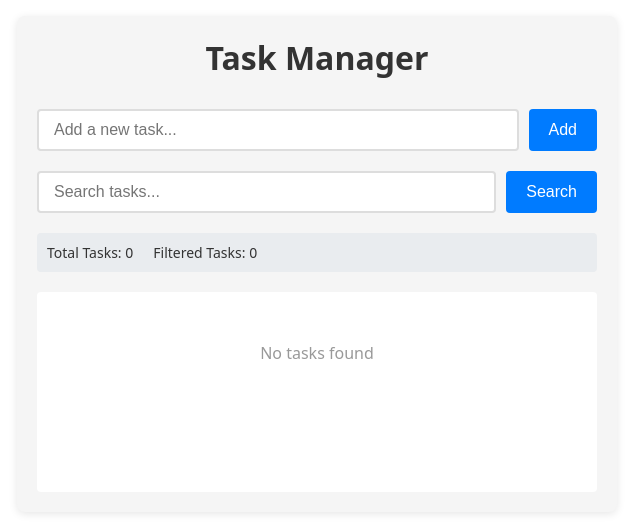
TaskManager Component › Add Task Functionality › should add a task when Add button is clicked
The image size is (635, 532).
Type "Buy groceries" into the field with test id "task-input" at (278, 130), box [37,109,518,151]
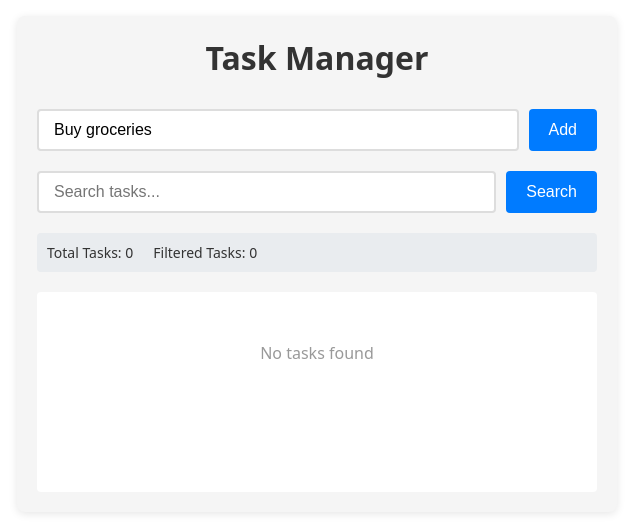
Click the button with test id "add-button" at (563, 130), box [528,109,597,151]
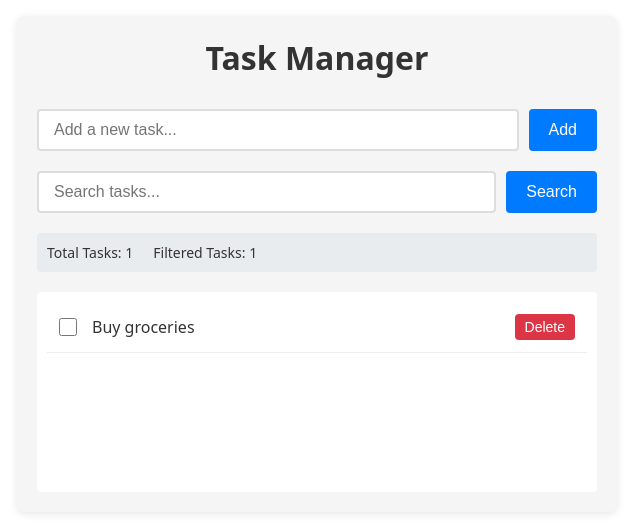
Result: the text "Buy groceries" is shown at [92,316,194,338]
